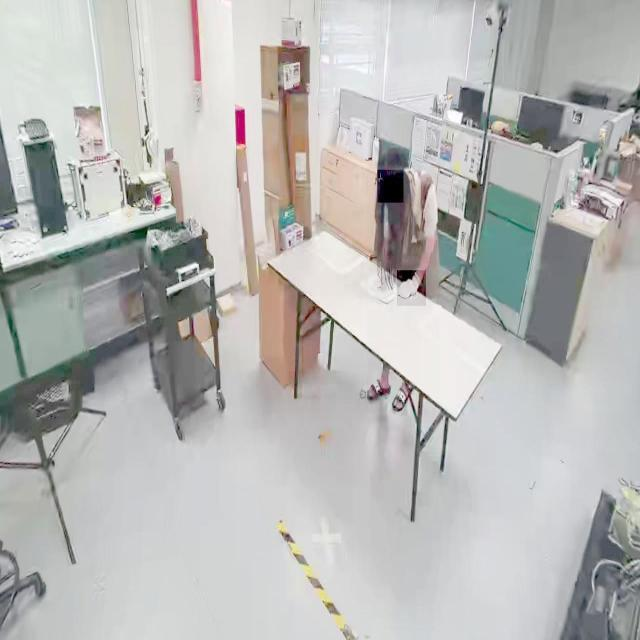hand_glove: (397, 270, 426, 306)
head_nohelmet: (378, 170, 404, 203)
person: (367, 154, 440, 424)
